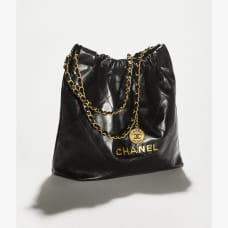channel: (59, 40, 211, 180), (65, 64, 91, 121), (109, 142, 172, 159), (122, 125, 151, 143)
